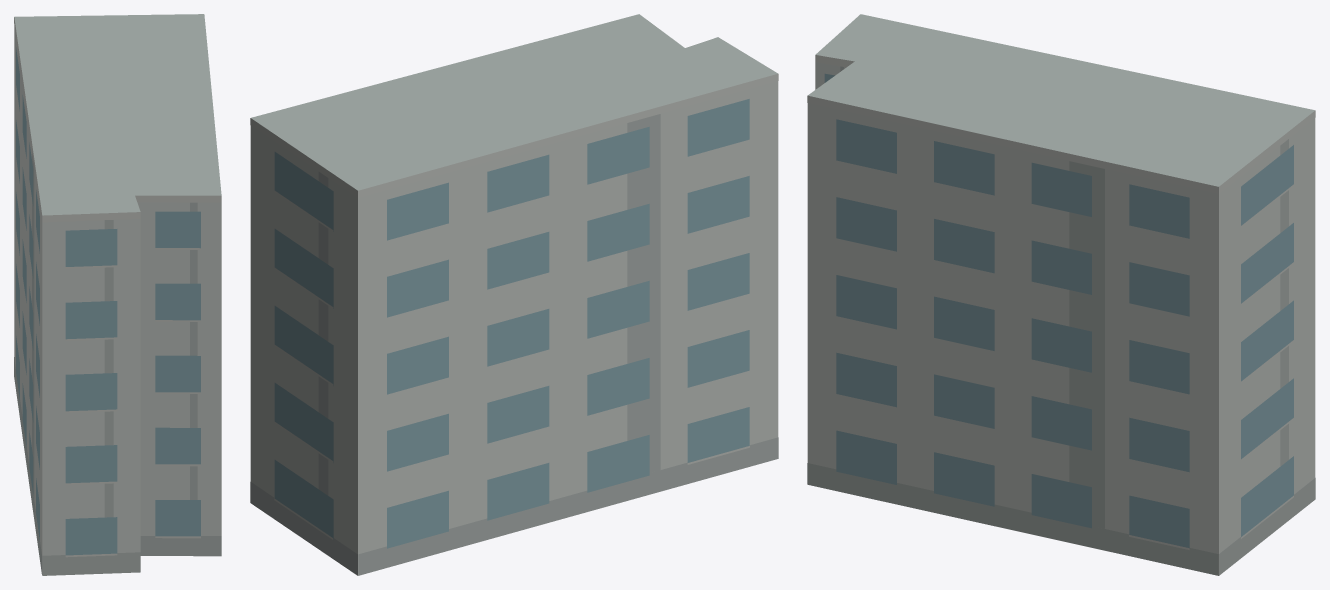
File: survey-upis-32729591.glb
The picture shows the model from 3 angles, left to right: view 1: azimuth 30°, elevation 25°; view 2: azimuth 150°, elevation 25°; view 3: azimuth 270°, elevation 25°; orthographic projection. The views are drawn at different scales.
Visible parts, largest first — view 1: survey-upis-32729591.tmp; view 2: survey-upis-32729591.tmp; view 3: survey-upis-32729591.tmp.
Part boxes in pixels (bbox=[...]): survey-upis-32729591.tmp: bbox=[14, 14, 221, 575]; survey-upis-32729591.tmp: bbox=[250, 14, 778, 575]; survey-upis-32729591.tmp: bbox=[807, 14, 1315, 575].
Bounding box in the file's own units: 12.2 × 12.8 × 15.16.
